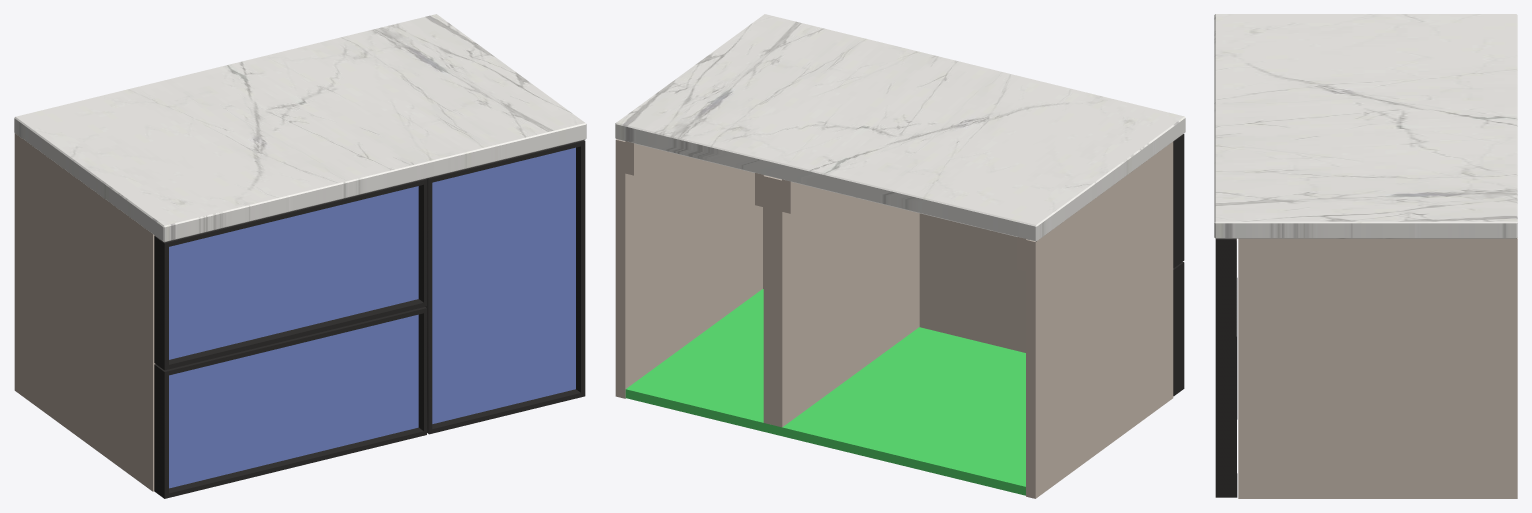
The picture shows the model from 3 angles, left to right: view 1: azimuth 30°, elevation 25°; view 2: azimuth 150°, elevation 25°; view 3: azimuth 270°, elevation 25°; orthographic projection.
Parts seen in each view (by area): view 1: AT07; view 2: AT07; view 3: AT07.
Part boxes in pixels (bbox=[...]): AT07: bbox=[14, 14, 586, 498]; AT07: bbox=[615, 14, 1185, 498]; AT07: bbox=[1214, 14, 1517, 498].
Size of the model in its own units: 0.796 by 0.493 by 0.489.
Materials: 5 (2 with a texture image).
